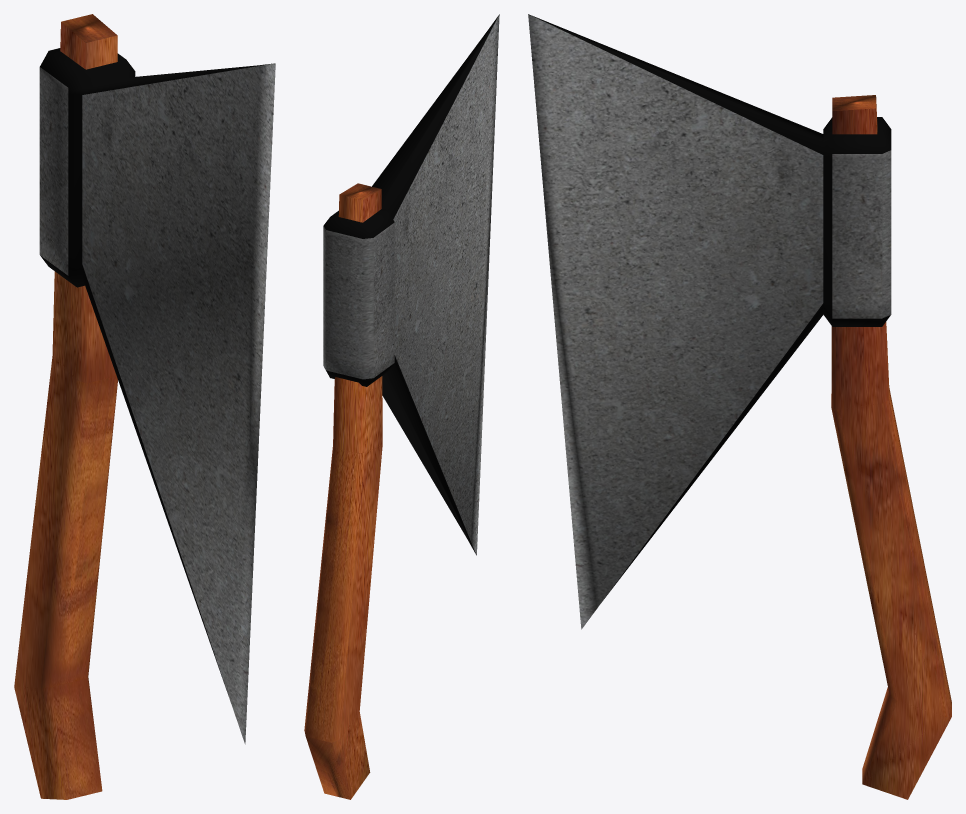
The model's file is Axe.fbx.
3 views of the same model, side by side, from view 1: azimuth 30°, elevation 25°; view 2: azimuth 150°, elevation 25°; view 3: azimuth 270°, elevation 25° (orthographic). The views are drawn at different scales.
Visible parts, largest first — view 1: axe, handlebar; view 2: axe, handlebar; view 3: axe, handlebar.
Boxes of the visible parts, x1=… form: axe: x1=39, y1=48, x2=275, y2=744; handlebar: x1=14, y1=14, x2=117, y2=799; axe: x1=323, y1=14, x2=499, y2=555; handlebar: x1=304, y1=183, x2=382, y2=799; axe: x1=528, y1=14, x2=891, y2=629; handlebar: x1=831, y1=95, x2=951, y2=799.
Size of the model in its own units: 200 by 2536 by 1251.
Materials: 4 (3 with a texture image).
